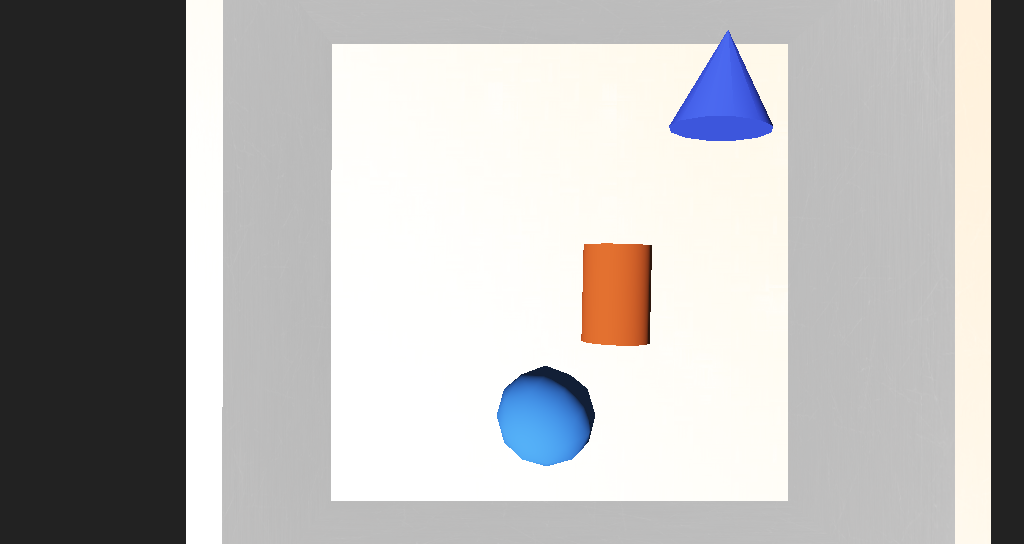cone: (522, 253, 569, 301)
cylinder: (563, 150, 664, 212)
sphere: (468, 313, 529, 356)
